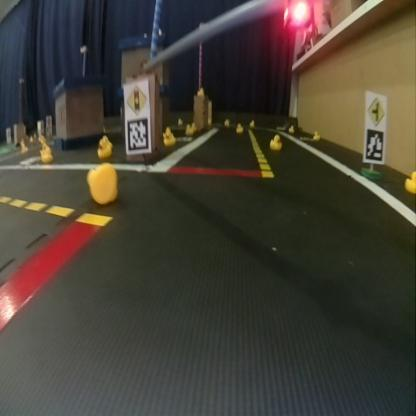Duckie: (86, 162, 118, 204), (96, 139, 110, 155), (404, 170, 414, 192), (162, 130, 174, 143), (270, 134, 280, 148), (312, 130, 318, 139), (236, 122, 242, 130), (224, 118, 230, 126), (249, 118, 254, 126), (288, 126, 294, 132)
Intersection sign: (365, 96, 385, 126)
QR code: (125, 117, 149, 150), (364, 128, 384, 161)
Signal sign: (125, 84, 147, 112)
Traffic light: (283, 2, 313, 28)
